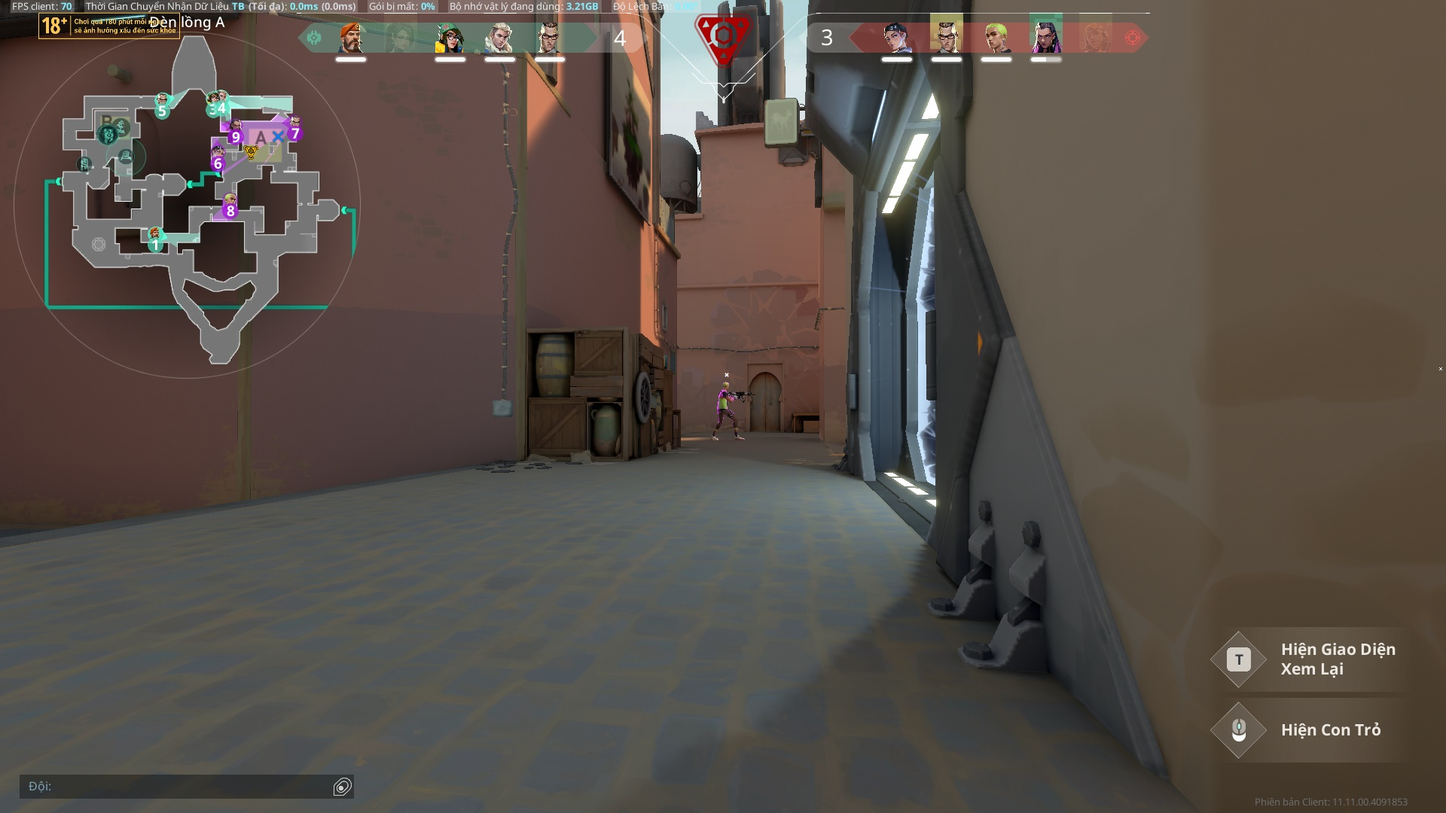body: (717, 387, 731, 408)
head: (722, 380, 728, 389)
